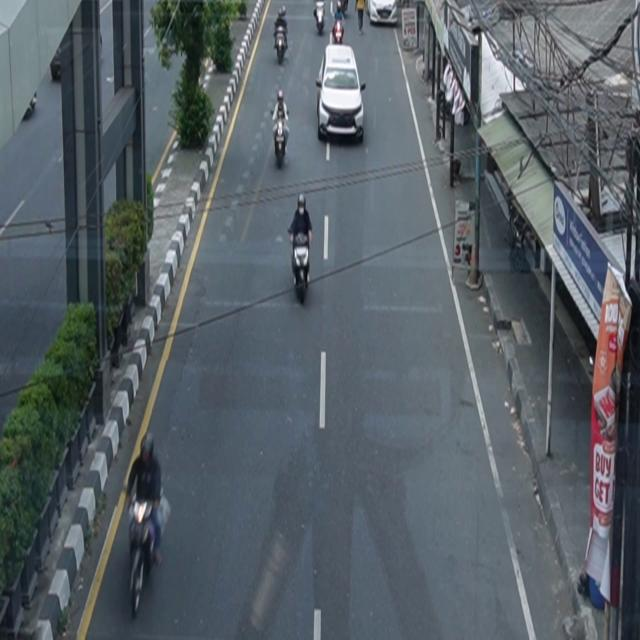car: (316, 44, 367, 144)
